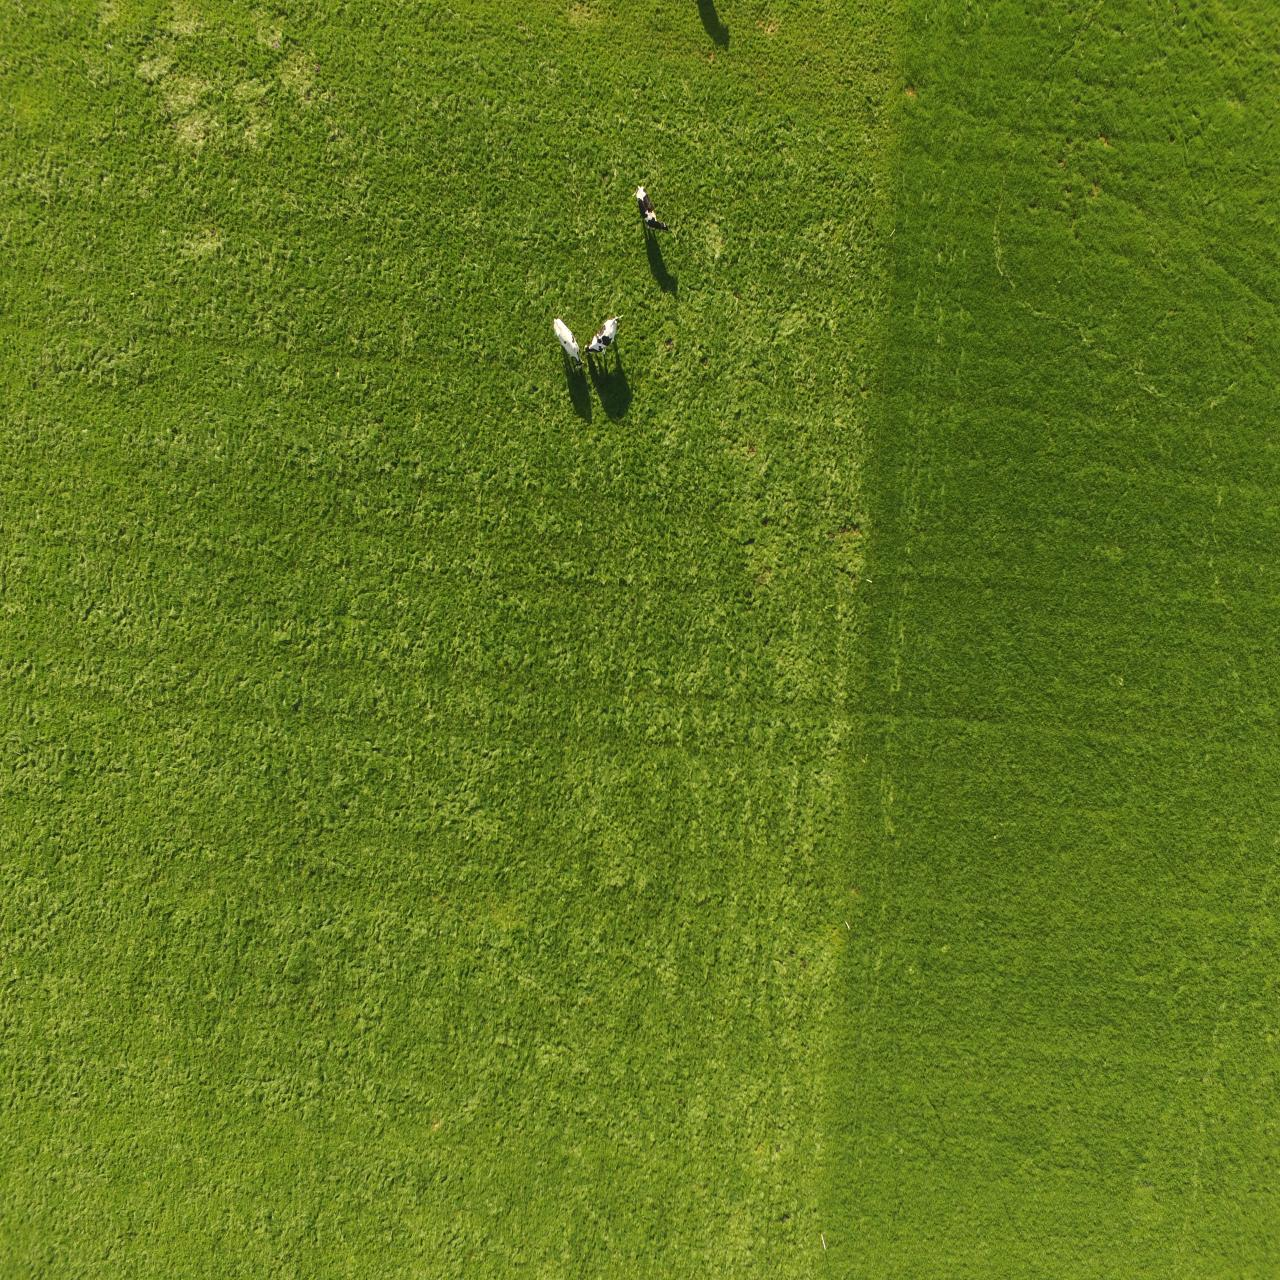cow: (634, 186, 670, 239), (551, 318, 583, 371), (587, 313, 623, 357)
